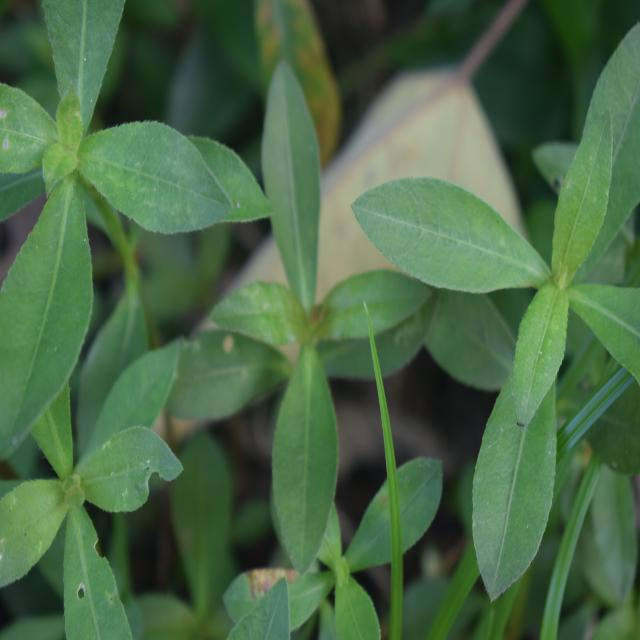Alligatorweed: (398, 27, 636, 603), (200, 71, 426, 537), (0, 1, 221, 404), (0, 411, 181, 637)
